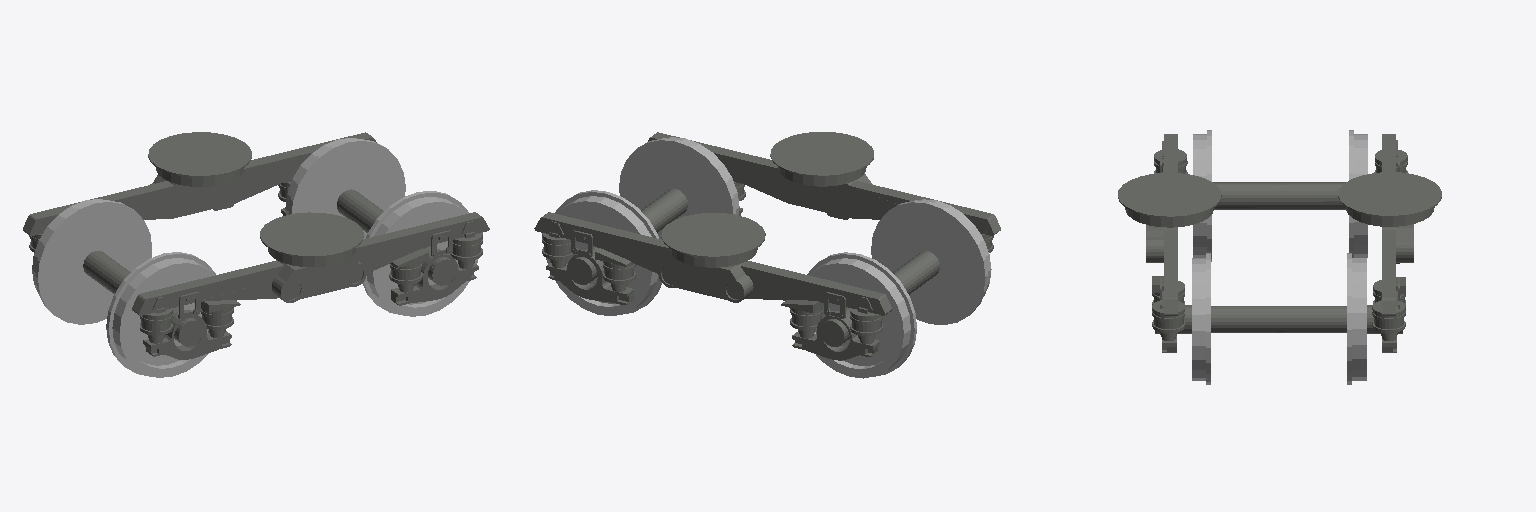
Rendered from Bogie.obj.
3 views of the same model, side by side, from view 1: azimuth 30°, elevation 25°; view 2: azimuth 150°, elevation 25°; view 3: azimuth 270°, elevation 25° (orthographic).
Visible parts, largest first — view 1: Object.1, Object.5, Object.4; view 2: Object.1, Object.5, Object.4; view 3: Object.1, Object.5, Object.4.
Boxes of the visible parts, <box> form: Object.1: <box>23,132,489,377</box>; Object.5: <box>148,132,251,186</box>; Object.4: <box>260,212,363,266</box>; Object.1: <box>534,132,1000,378</box>; Object.5: <box>661,213,765,267</box>; Object.4: <box>770,132,873,186</box>; Object.1: <box>1146,130,1413,384</box>; Object.5: <box>1338,172,1441,226</box>; Object.4: <box>1118,173,1221,227</box>.
Size of the model in its own units: 2.92 by 0.937 by 2.23.